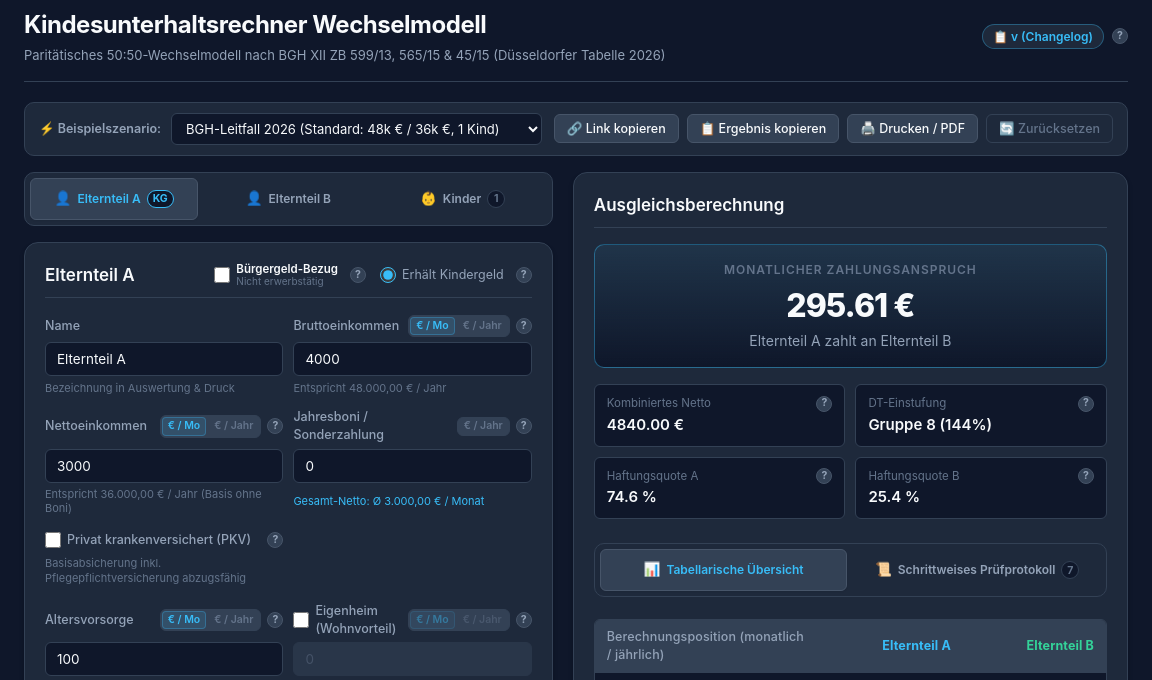
Test case: Kindernamen-Vereinheitlichung und dynamische Altersgruppen-Synchronisation › setzt in den Szenarien einheitliche Namen nach Altersgruppe und aktualisiert diese bei manueller Änderung
Note: Spitzenverdiener-Szenario laden (1 Kind 12-17 J., 1 Kind 18+ J.)
Select "Spitzenverdiener (120k € + Boni / 60k €, 2 Kinder)" in the dropdown labelled "⚡ Beispielszenario:" at (356, 129), box [171,113,542,145]
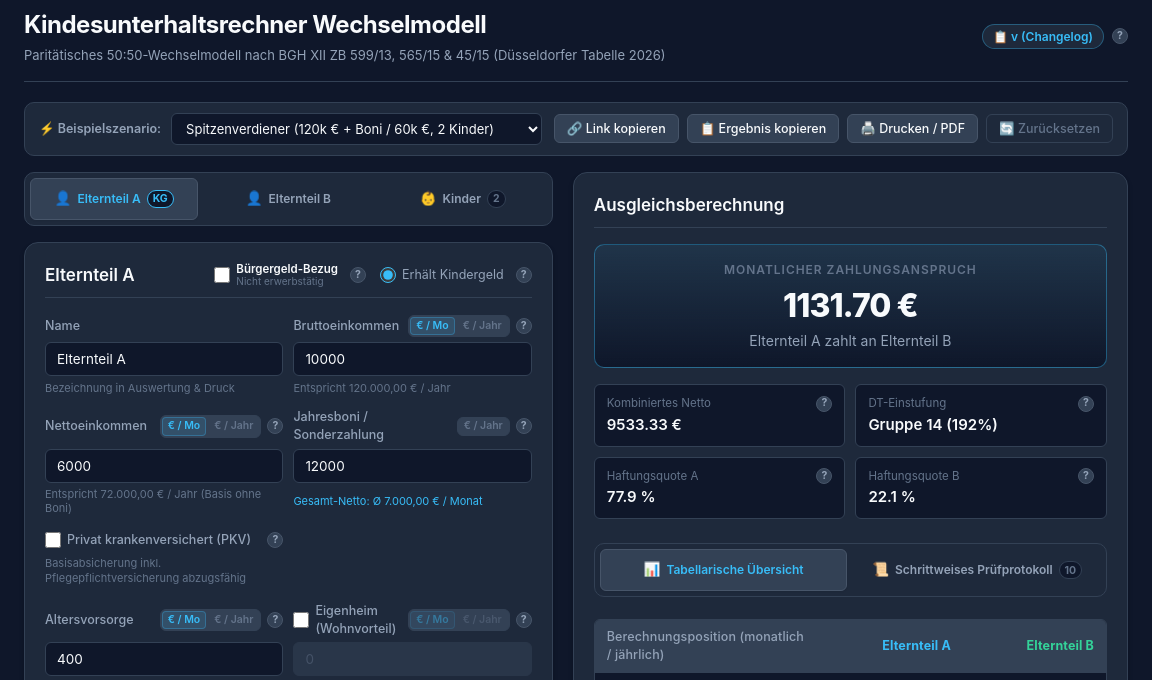
Click the button "👶 Kinder 2".
click(463, 199)  # box [378,178,547,220]
(page scrolled)
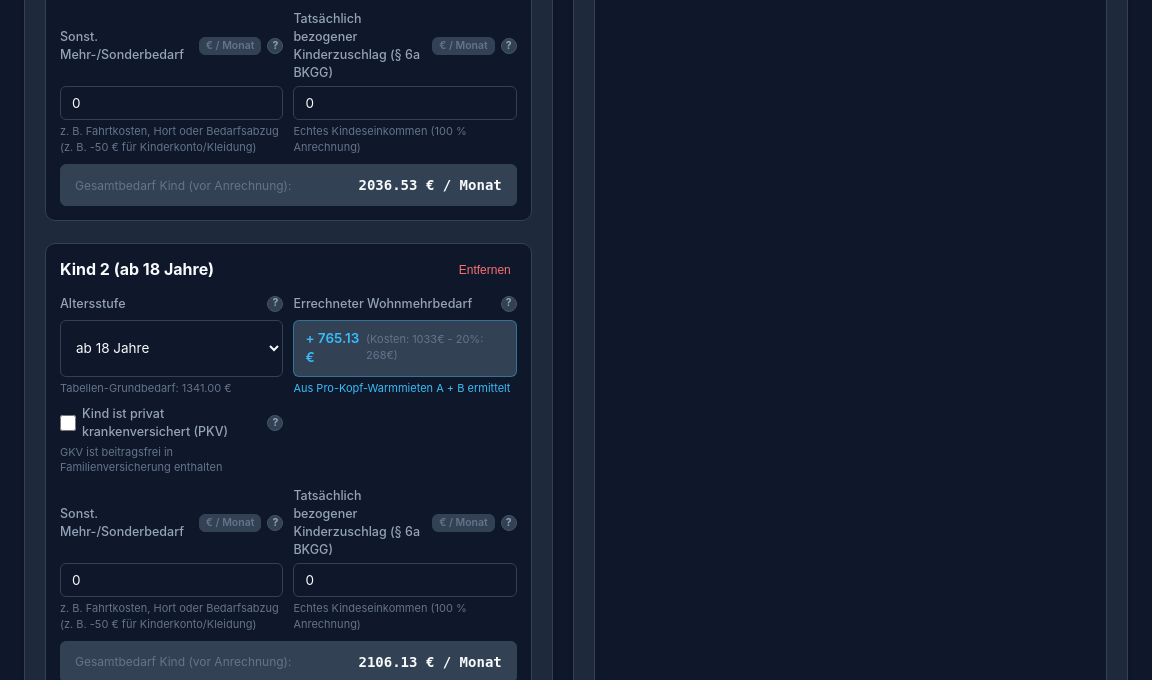
Check: the text "Kind 2 (ab 18 Jahre)" is shown, box [60,258,214,282]
Select "0–5 Jahre" in the dropdown at (172, 348), box [60,320,283,377]
(page scrolled)
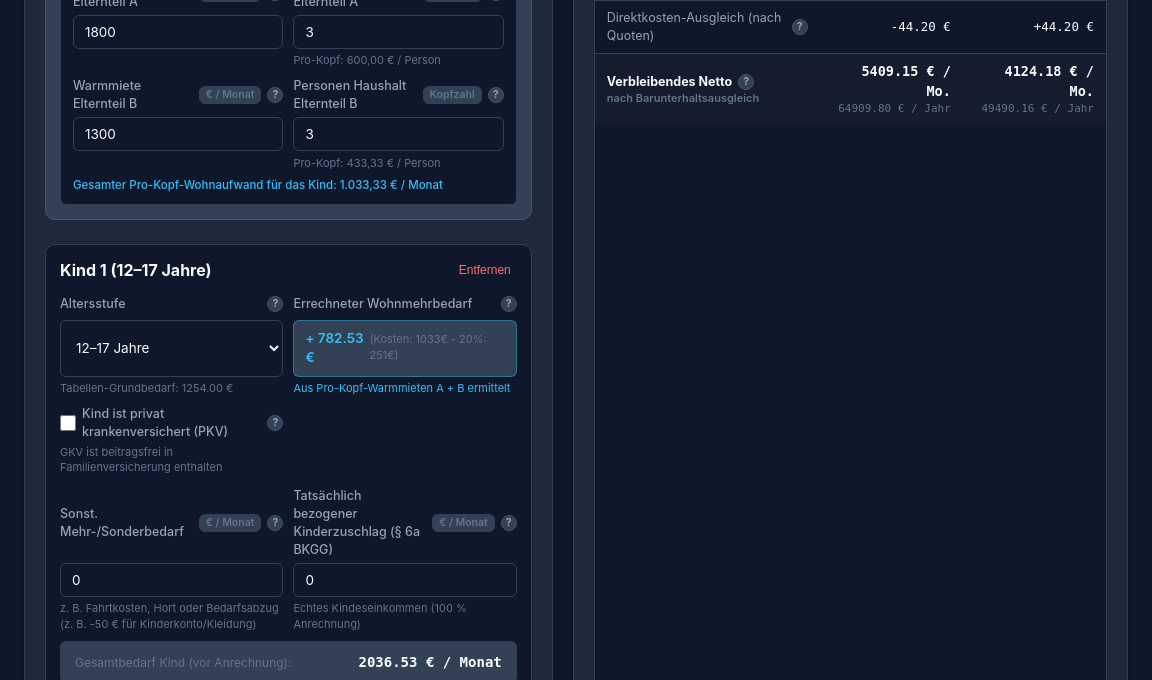
Check: the text "Kind 2 (ab 18 Jahre)" is gone
Select "6–11 Jahre" in the dropdown at (172, 348), box [60,320,283,377]
(page scrolled)
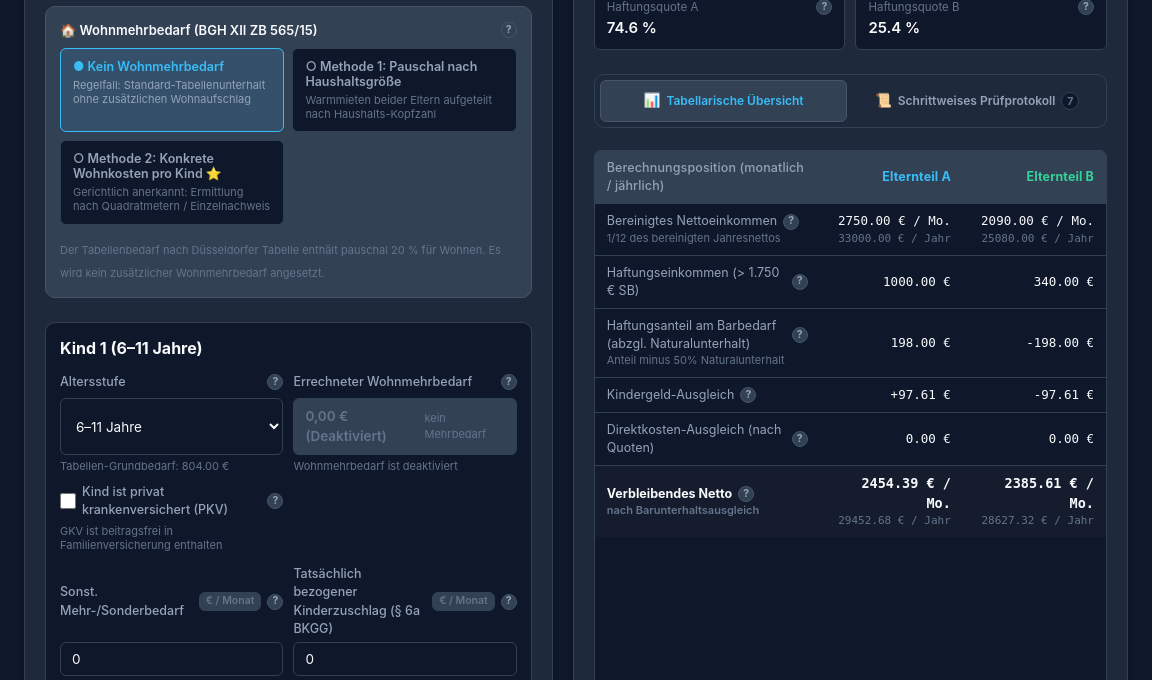
Check: the text "Kind 1 (6–11 Jahre)" is shown, box [60,337,203,360]
Check: the text "Kind 1 (12–17 Jahre)" is gone
